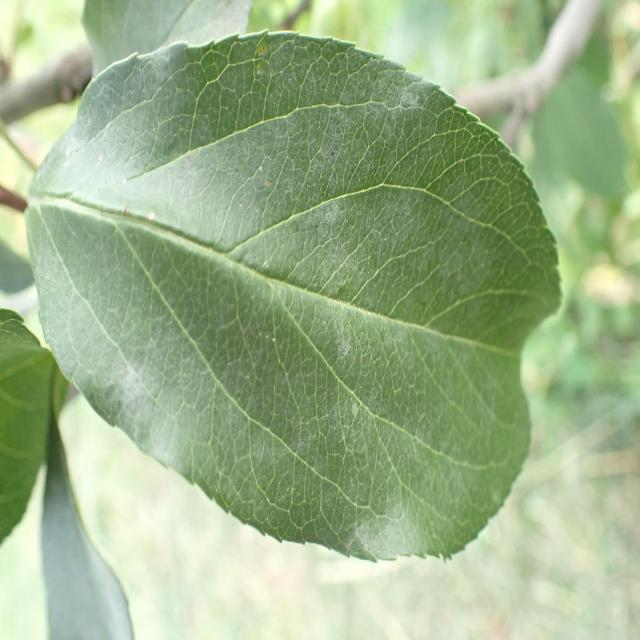Powdery_mildew: (54, 29, 567, 561)
